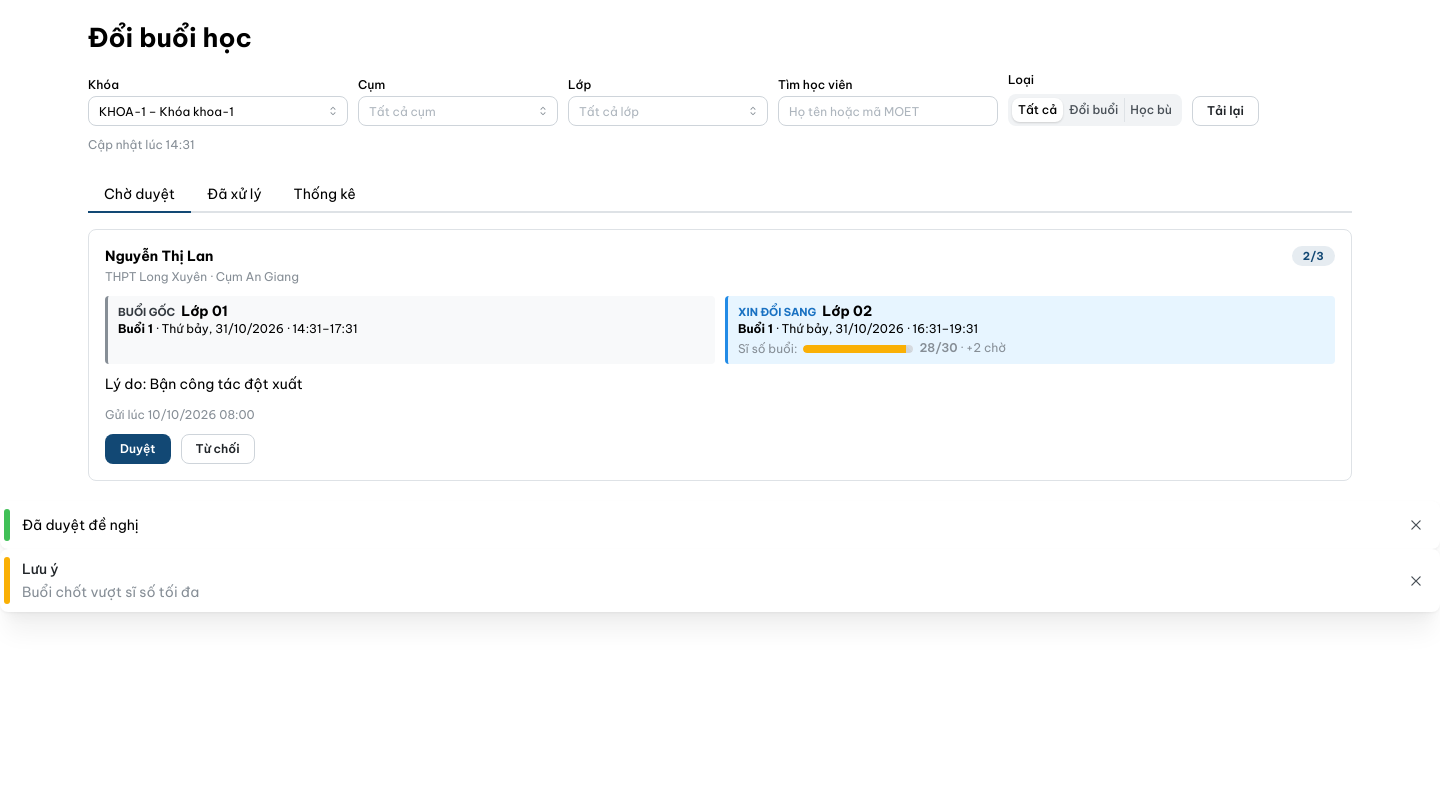
Test case: Màn duyệt đổi buổi › duyệt gặp 409: hiện thông điệp của server
Click the button "Duyệt".
click(138, 449)  # box [105, 434, 171, 464]
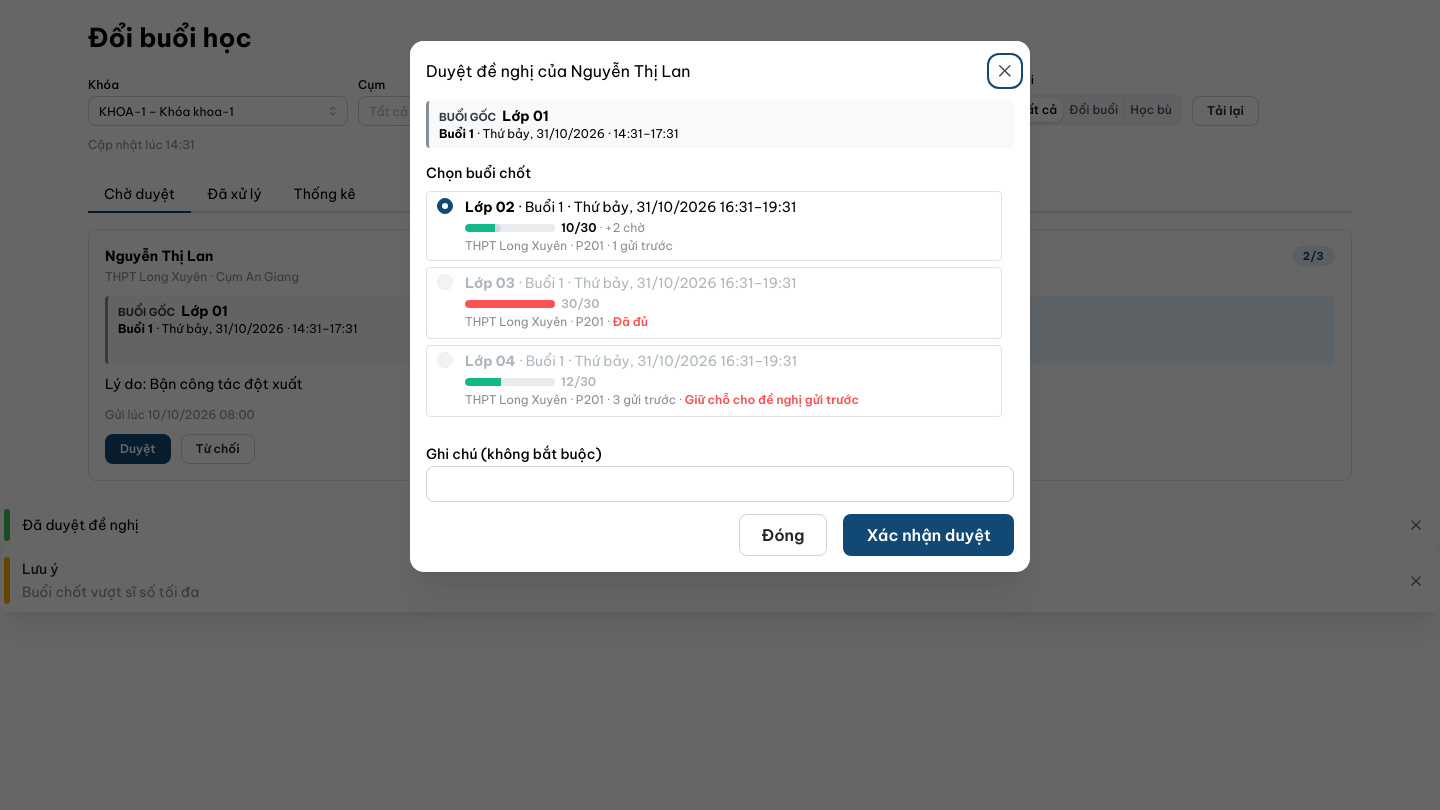
Expected: the text "Chọn buổi chốt" is shown, [426, 163, 531, 184]
Click the button "Xác nhận duyệt".
click(929, 534)  # box [843, 513, 1014, 555]
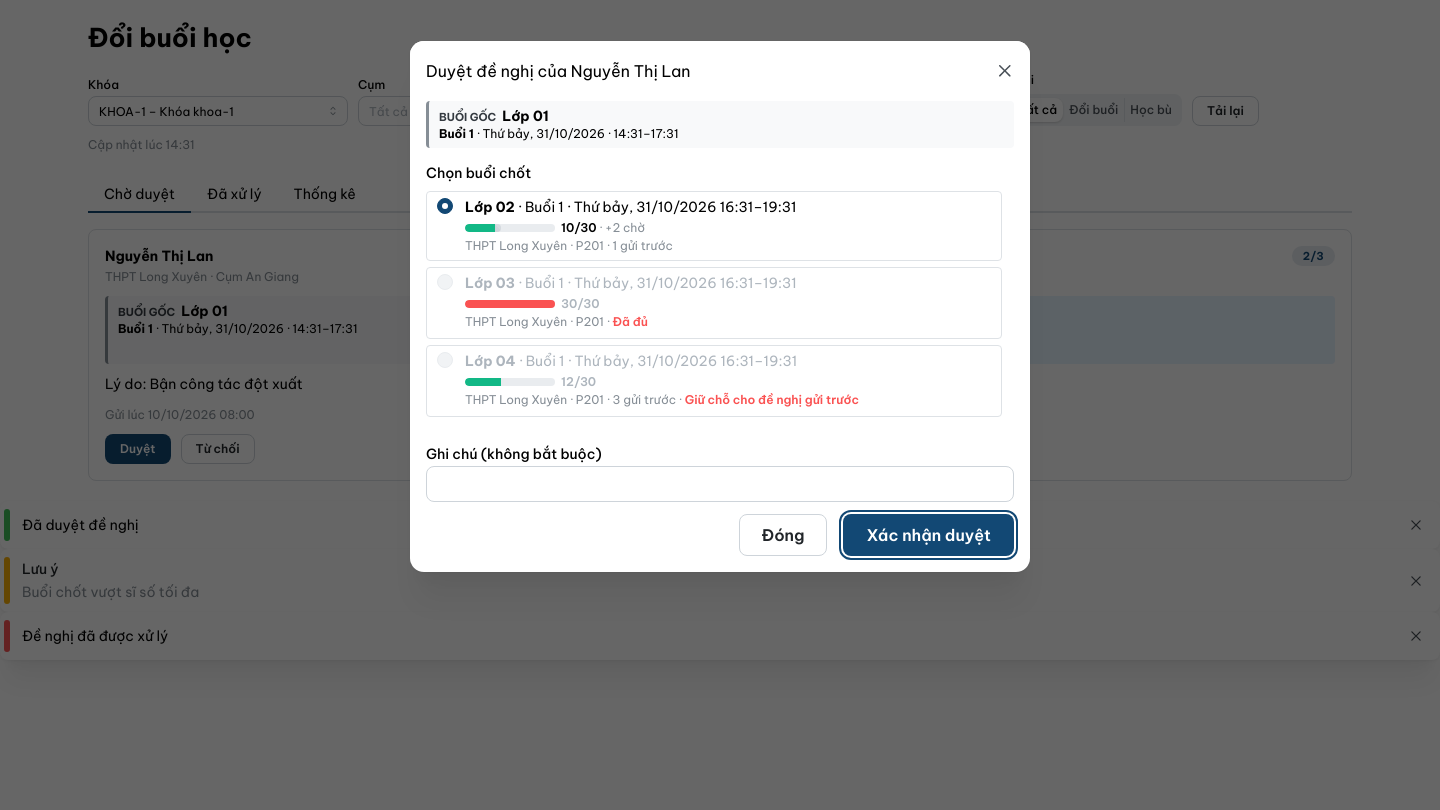
Expected: the text "Đề nghị đã được xử lý" is shown, [22, 627, 168, 645]
